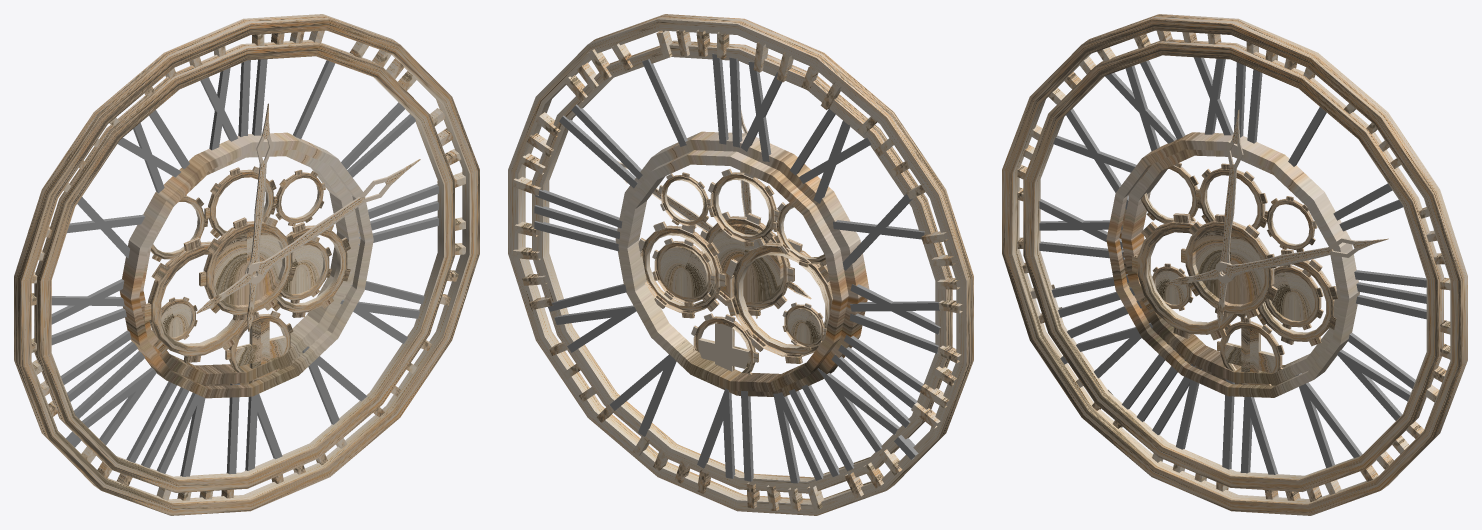
Rendered from Horloge_Murale.FBX.
3 renders of one model, left to right at view 1: azimuth 30°, elevation 25°; view 2: azimuth 150°, elevation 25°; view 3: azimuth 330°, elevation 25°, orthographic.
Parts seen in each view (by area): view 1: Tube006; view 2: Tube006; view 3: Tube006.
Part boxes in pixels (x1=…): Tube006: x1=14, y1=14, x2=479, y2=515; Tube006: x1=508, y1=14, x2=973, y2=515; Tube006: x1=1002, y1=14, x2=1467, y2=515.
Size of the model in its own units: 155 by 12.99 by 158.
Materials: 2 (1 with a texture image).
